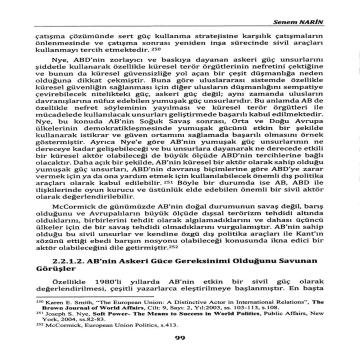footer: (42, 298, 329, 330)
header: (270, 18, 326, 25)
